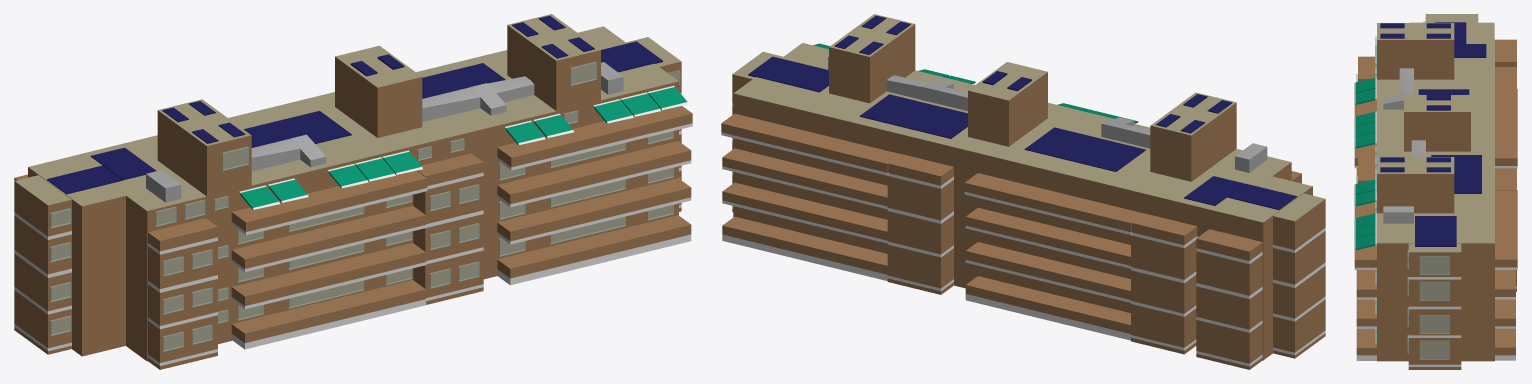
Rendered from NEXT TO RAANSTAD.fbx.
3 views of the same model, side by side, from view 1: azimuth 30°, elevation 25°; view 2: azimuth 150°, elevation 25°; view 3: azimuth 270°, elevation 25° (orthographic). The views are drawn at different scales.
Parts seen in each view (by area): view 1: pCube112; view 2: pCube112; view 3: pCube112.
Boxes of the visible parts, bbox=[...] form: pCube112: bbox=[14, 14, 692, 369]; pCube112: bbox=[721, 14, 1325, 369]; pCube112: bbox=[1354, 14, 1517, 369].
Size of the model in its own units: 234 by 72.52 by 67.7.
